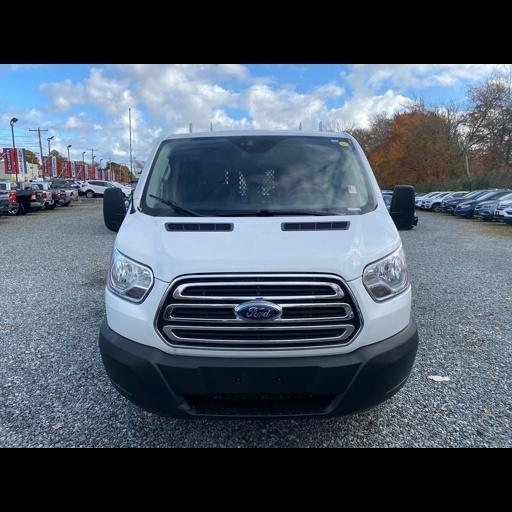car: (416, 191, 451, 210), (406, 213, 416, 227)
hatchback: (419, 191, 467, 211)
sedan: (454, 188, 511, 217), (112, 182, 131, 197), (415, 192, 426, 208), (427, 191, 434, 196)
suv: (441, 188, 490, 214), (473, 192, 511, 220), (80, 179, 115, 197), (493, 195, 511, 223), (381, 189, 391, 210)
truck: (0, 181, 45, 214), (16, 182, 55, 212), (0, 189, 18, 214), (50, 187, 68, 210), (64, 188, 78, 207)
van: (99, 130, 418, 419)
